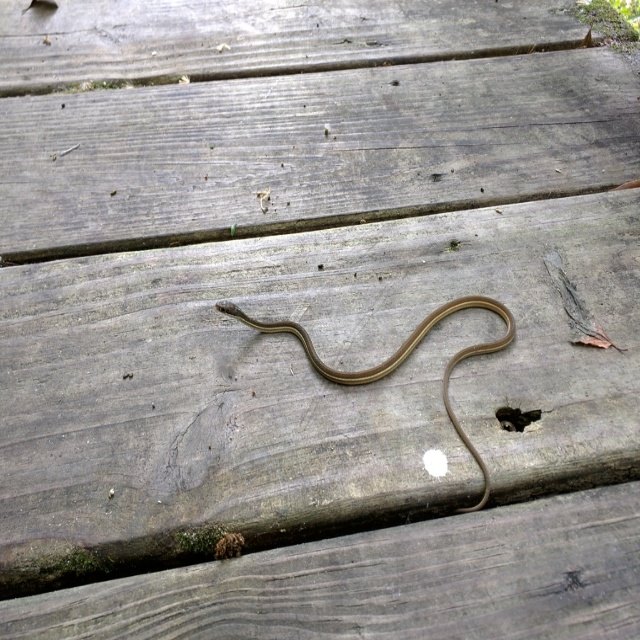Snake: (216, 297, 517, 511)
